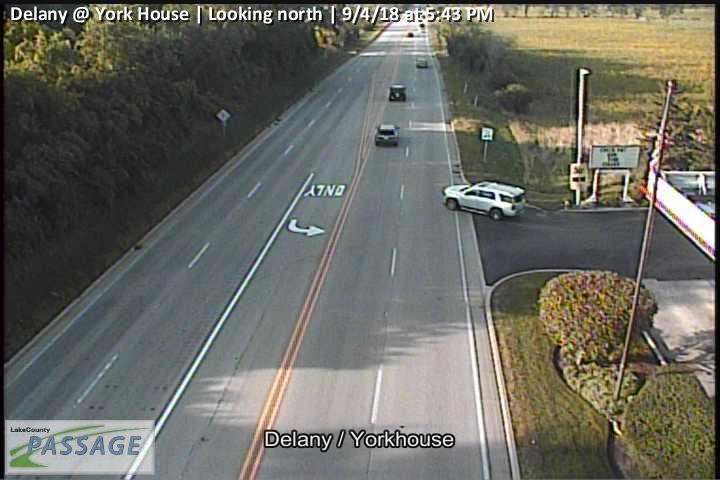SUV: (442, 180, 527, 221), (374, 122, 400, 147), (389, 84, 406, 102)
Sedan: (415, 56, 428, 67)
